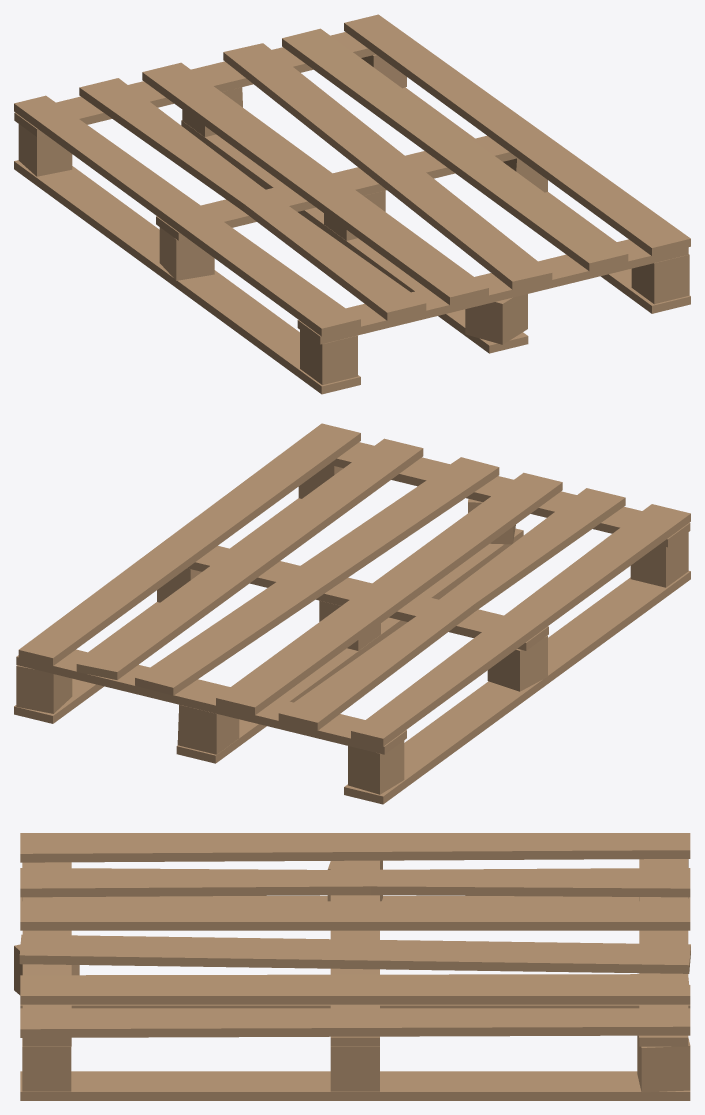
File: pellet.fbx
3 renders of one model, top to bottom at view 1: azimuth 30°, elevation 25°; view 2: azimuth 150°, elevation 25°; view 3: azimuth 270°, elevation 25°, orthographic. The views are drawn at different scales.
Parts seen in each view (by area): view 1: Cube.013; view 2: Cube.013; view 3: Cube.013.
Boxes of the visible parts, <box> form: Cube.013: <box>14,14,690,394</box>; Cube.013: <box>14,423,690,804</box>; Cube.013: <box>14,833,690,1100</box>.
Bounding box in the file's own units: 189 × 32.24 × 273.
